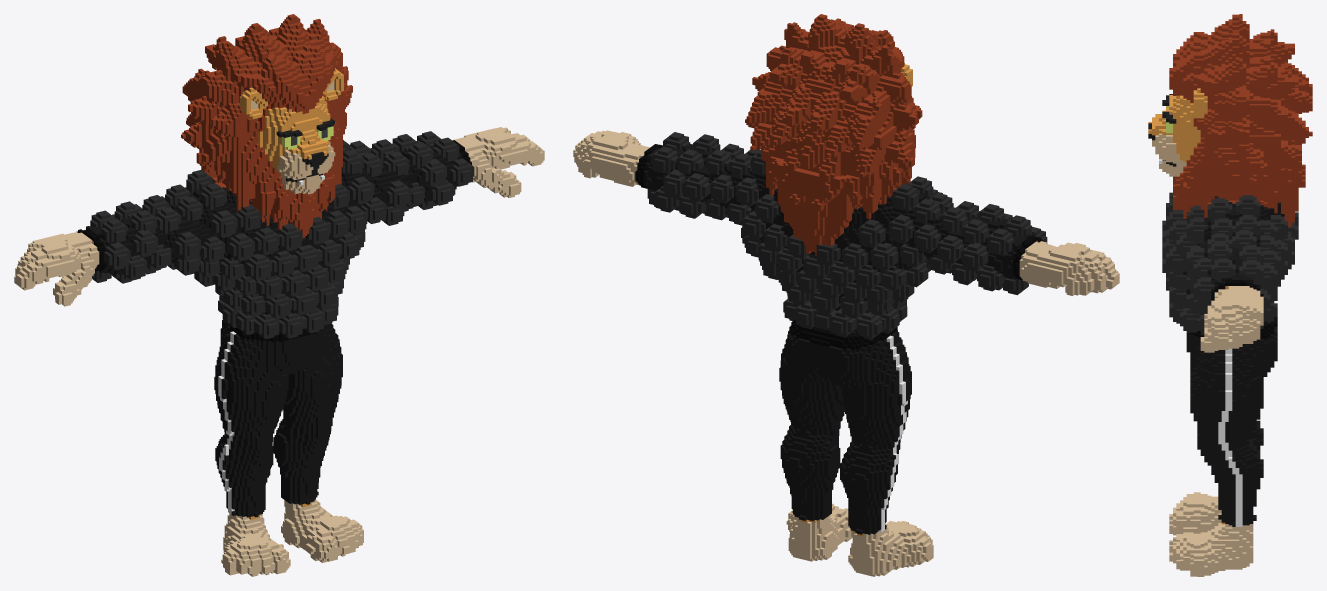
3 views of the same model, side by side, from view 1: azimuth 30°, elevation 25°; view 2: azimuth 150°, elevation 25°; view 3: azimuth 270°, elevation 25° (orthographic). The views are drawn at different scales.
Parts seen in each view (by area): view 1: standard.001; view 2: standard.001; view 3: standard.001.
Boxes of the visible parts, x1=… form: standard.001: x1=14, y1=14, x2=544, y2=576; standard.001: x1=573, y1=14, x2=1119, y2=576; standard.001: x1=1148, y1=14, x2=1312, y2=576.
Bounding box in the file's own units: 17.2 × 16.5 × 4.7.
Materials: 5 (5 with a texture image).
